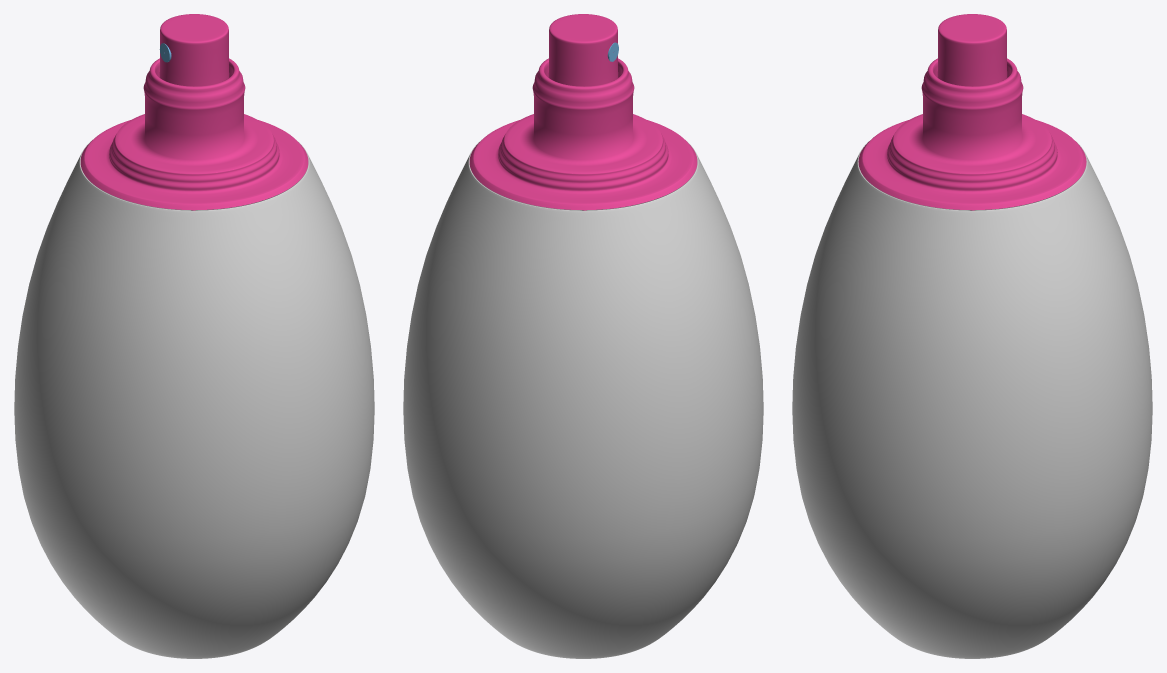
The model's file is parfum2_t.fbx.
3 renders of one model, left to right at view 1: azimuth 30°, elevation 25°; view 2: azimuth 150°, elevation 25°; view 3: azimuth 270°, elevation 25°, orthographic.
Visible parts, largest first — view 1: dior-j'adore.001; view 2: dior-j'adore.001; view 3: dior-j'adore.001.
Boxes of the visible parts, bbox=[...] form: dior-j'adore.001: bbox=[14, 14, 374, 658]; dior-j'adore.001: bbox=[403, 14, 763, 658]; dior-j'adore.001: bbox=[792, 14, 1152, 658].
Size of the model in its own units: 10.05 by 18.42 by 10.05.
